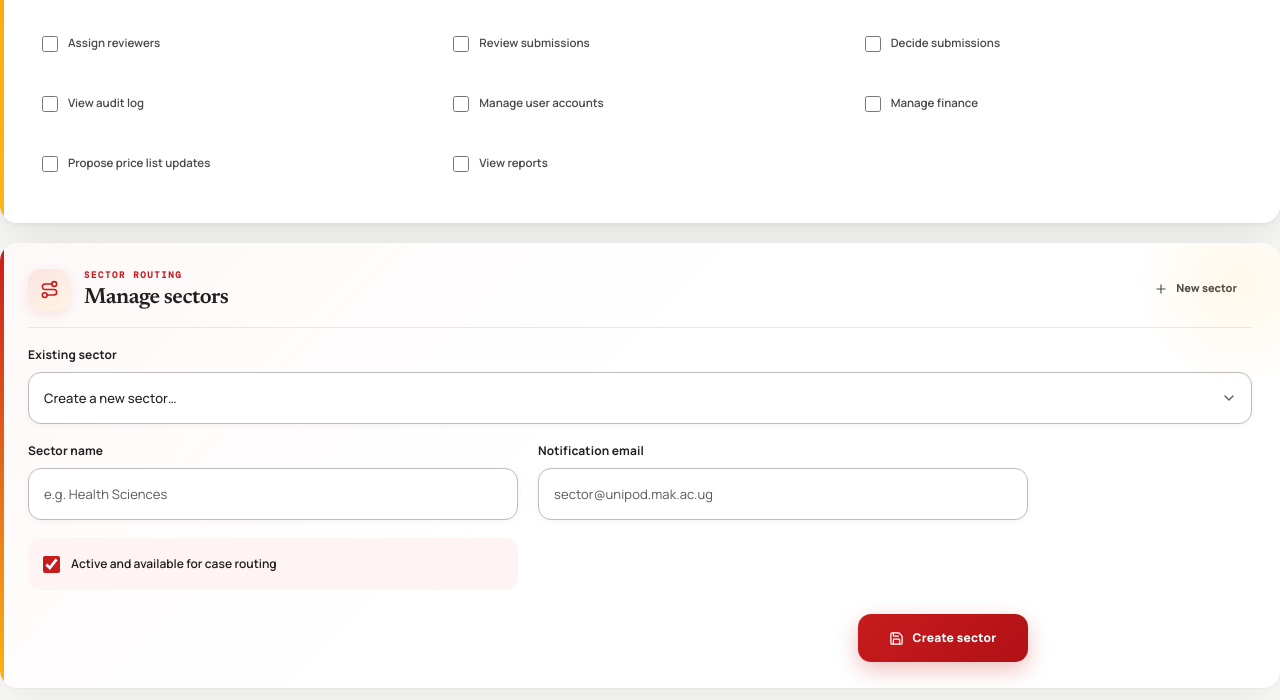
AdminManagementPage › shows active sectors as assignment areas without adding them to departments
(page scrolled)
Type "New Textile Sector" into the field labelled "Sector name". click: (273, 494)
box: 28,468 -> 518,520
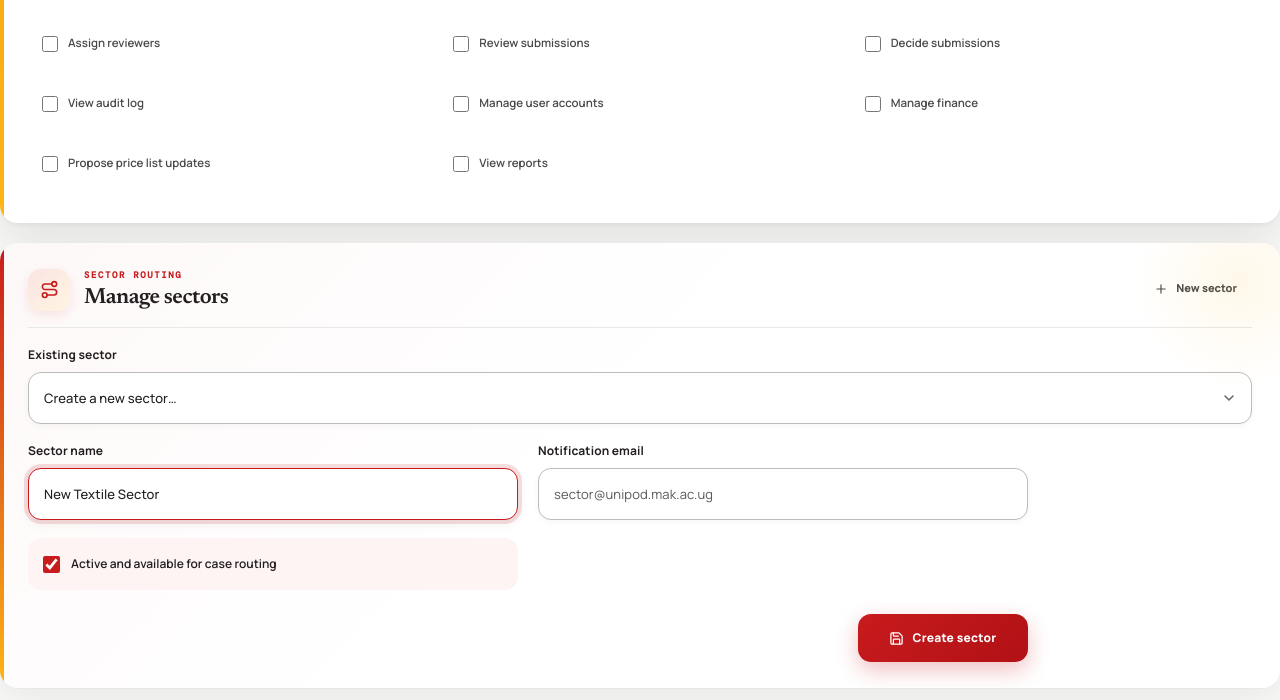
Type "textile@unipod.test" into the field labelled "Notification email". click: (783, 494)
box: 538,468 -> 1028,520
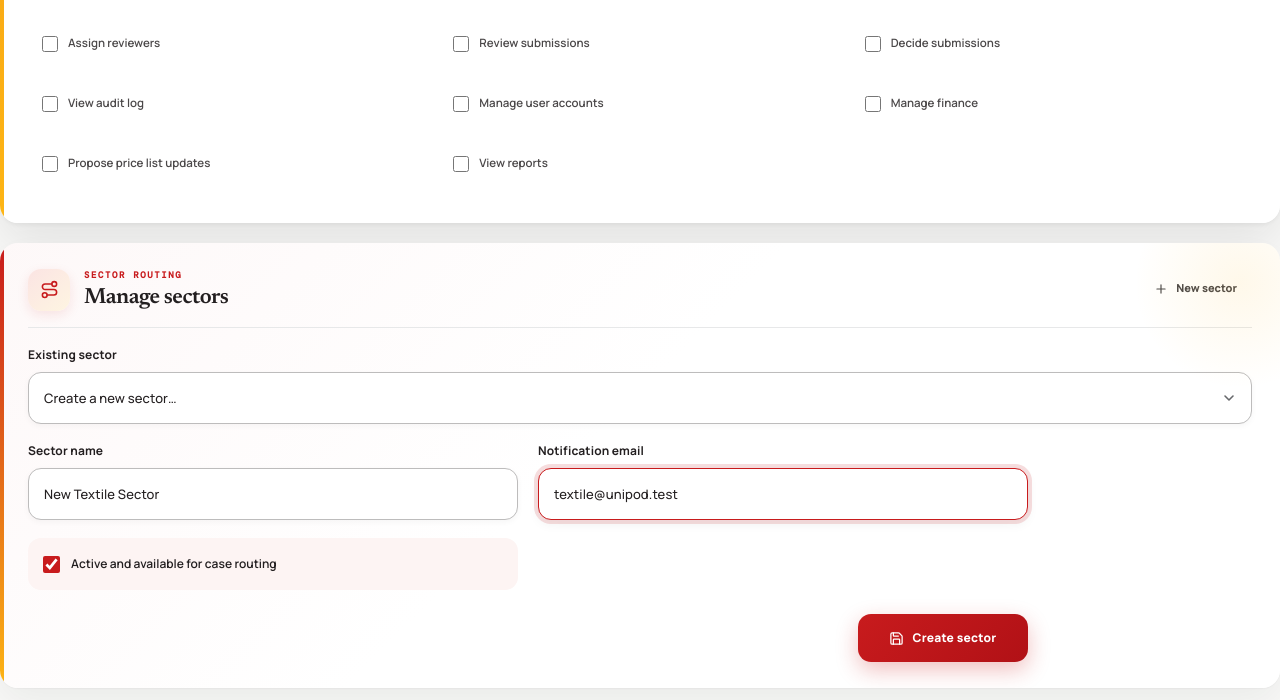
Click the button "Create sector". click: (943, 638)
box: 858,614 -> 1028,662
(page scrolled)
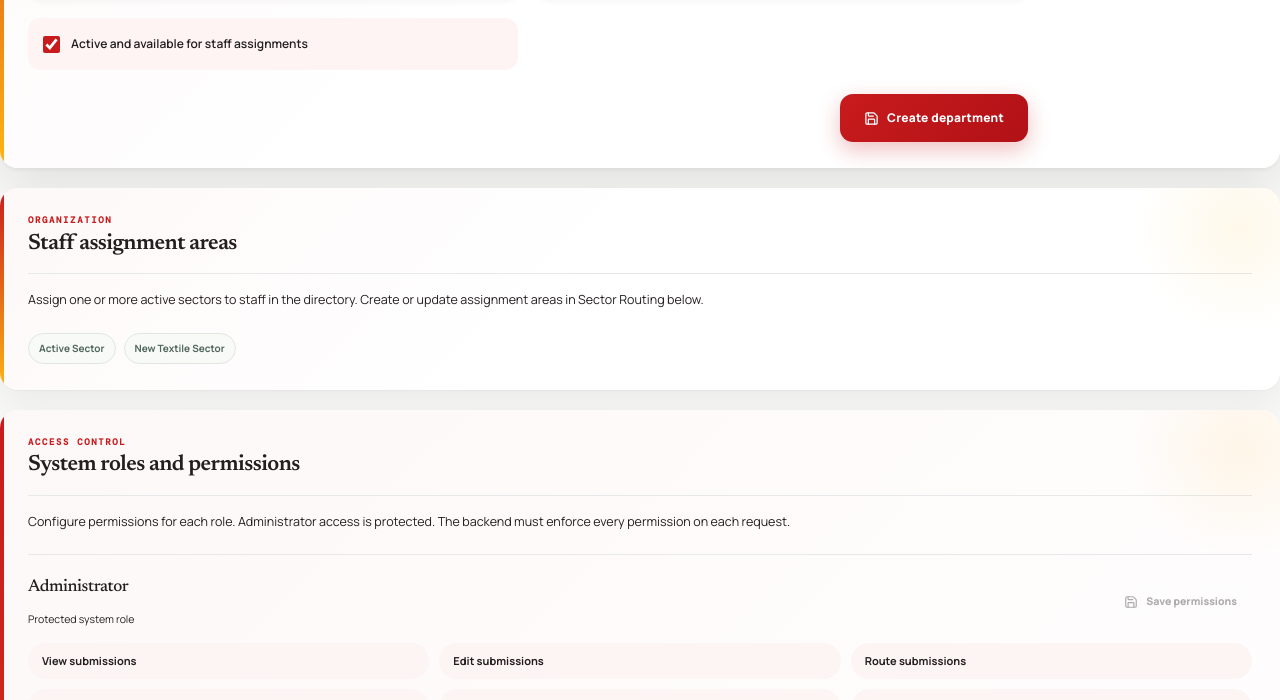
Check: the text "New Textile Sector" is shown, box 124,333 -> 236,364
